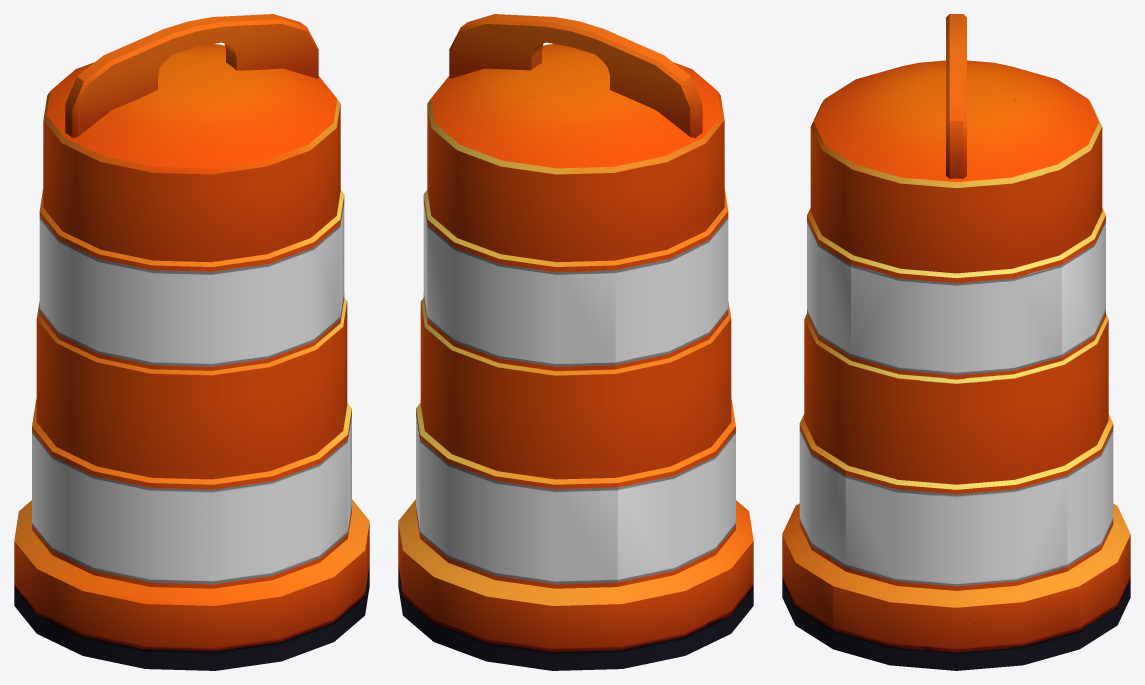
File: active.Barrier-01.glb
The picture shows the model from 3 angles, left to right: view 1: azimuth 30°, elevation 25°; view 2: azimuth 150°, elevation 25°; view 3: azimuth 270°, elevation 25°; orthographic projection. The views are drawn at different scales.
Visible parts, largest first — view 1: active.Barrier 01; view 2: active.Barrier 01; view 3: active.Barrier 01.
Boxes of the visible parts, bbox=[...] form: active.Barrier 01: bbox=[14, 14, 369, 670]; active.Barrier 01: bbox=[398, 14, 753, 670]; active.Barrier 01: bbox=[782, 14, 1130, 670].
Size of the model in its own units: 0.6667 by 1.17 by 0.6667.
Materials: 1 (1 with a texture image).
